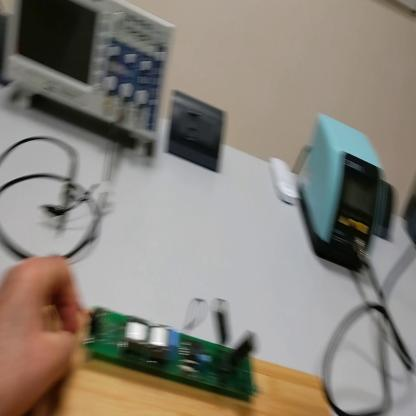hand: (2, 262, 82, 416)
high voltage board: (82, 299, 261, 403)
oscilloscope: (5, 2, 176, 168)
oscilloscope probe tip: (55, 156, 78, 242)
socket: (372, 181, 396, 244), (2, 9, 13, 85), (409, 188, 416, 247)
welder station: (306, 114, 382, 281)
working area: (36, 307, 342, 415)
